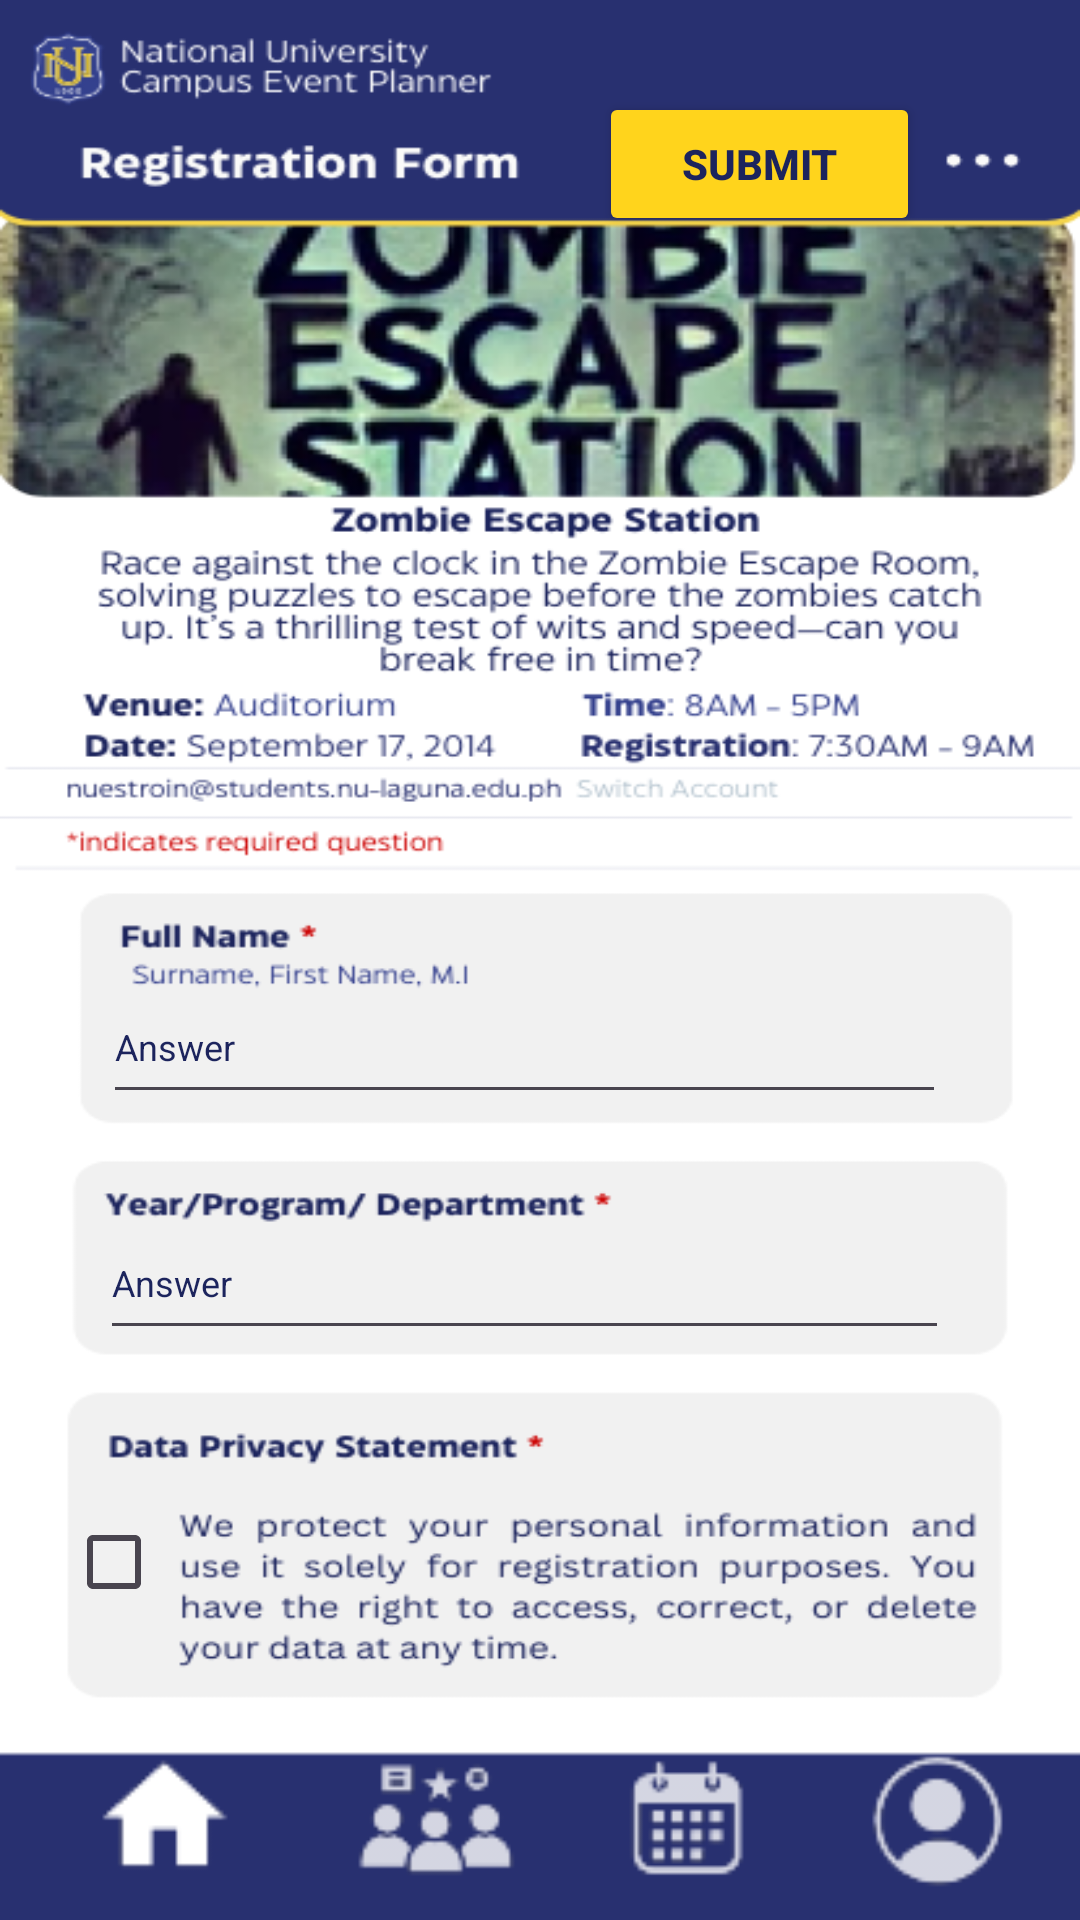

Screen size 1080w x 1920h. Icon name, then its center in pixels as [x,y]:
calendarbutton: [688,1818]
homebutton: [165,1814]
profilebutton: [935,1806]
regbutton: [435,1818]
